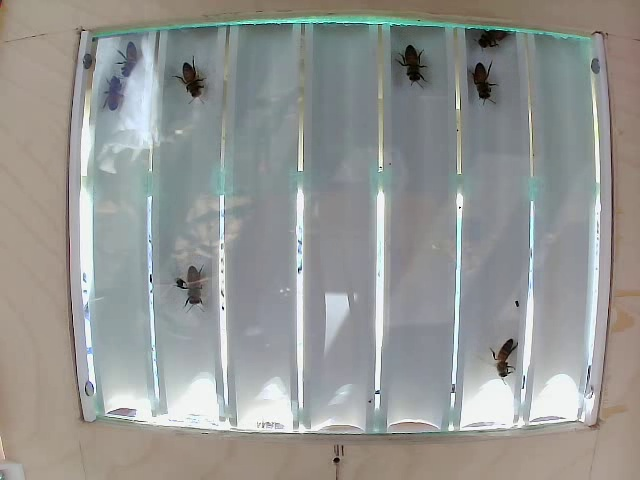bee: (173, 259, 220, 311), (486, 332, 526, 377), (400, 39, 432, 87), (181, 56, 216, 99), (112, 36, 150, 73), (461, 56, 495, 96), (102, 71, 127, 115), (480, 21, 507, 54)
